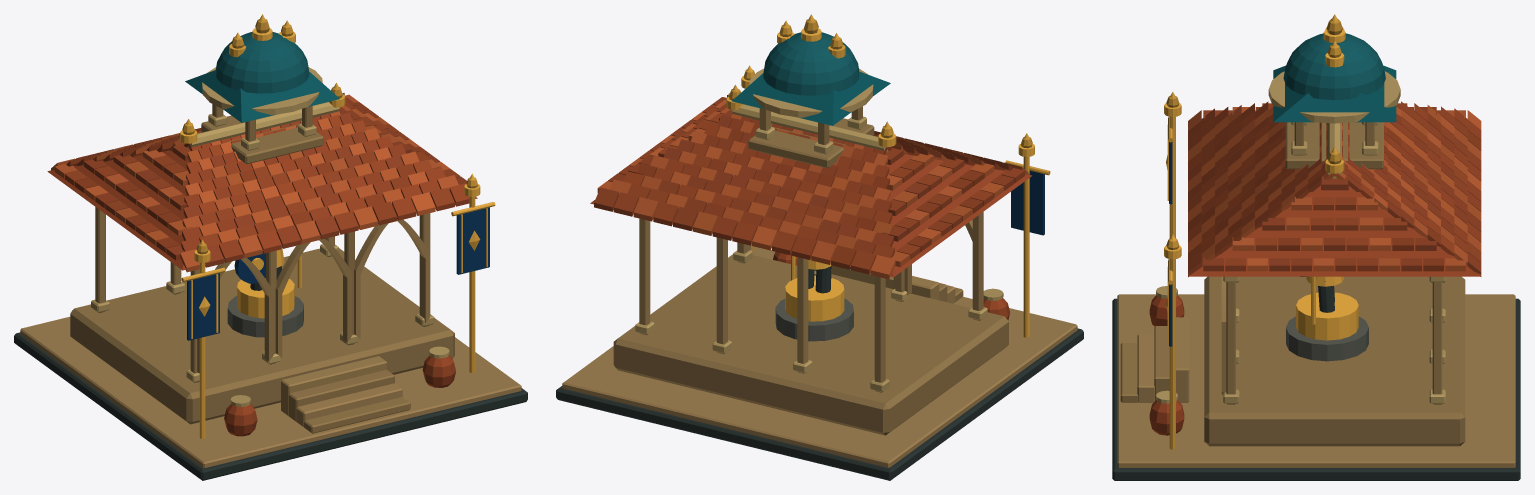
File: hero_hall.glb
3 views of the same model, side by side, from view 1: azimuth 30°, elevation 25°; view 2: azimuth 150°, elevation 25°; view 3: azimuth 270°, elevation 25° (orthographic). The views are drawn at different scales.
Visible parts, largest first — view 1: hero_hall_structure, hero_hall_brass; view 2: hero_hall_structure, hero_hall_brass; view 3: hero_hall_structure, hero_hall_brass.
Part boxes in pixels (<box>): hero_hall_structure: <box>14,19,527,480</box>; hero_hall_brass: <box>180,14,495,438</box>; hero_hall_structure: <box>556,19,1083,480</box>; hero_hall_brass: <box>726,14,1050,337</box>; hero_hall_structure: <box>1112,19,1520,480</box>; hero_hall_brass: <box>1164,14,1358,449</box>.
Size of the model in its own units: 5.6 by 5.78 by 5.6.
